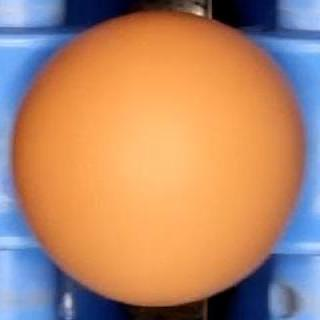Telur: (6, 9, 309, 309)
